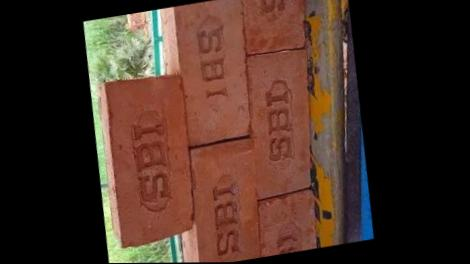brick: (94, 69, 205, 249), (163, 0, 262, 146), (237, 47, 324, 196), (180, 137, 268, 263), (249, 190, 321, 258), (239, 0, 317, 55)
